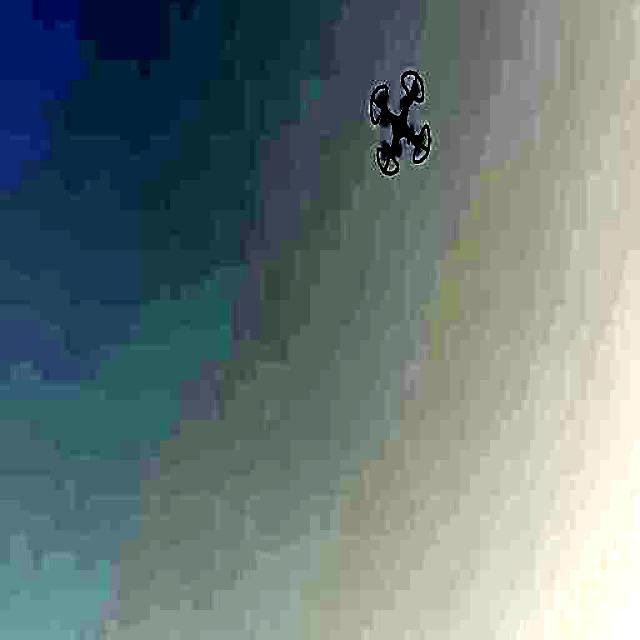bird: (360, 60, 445, 181)
